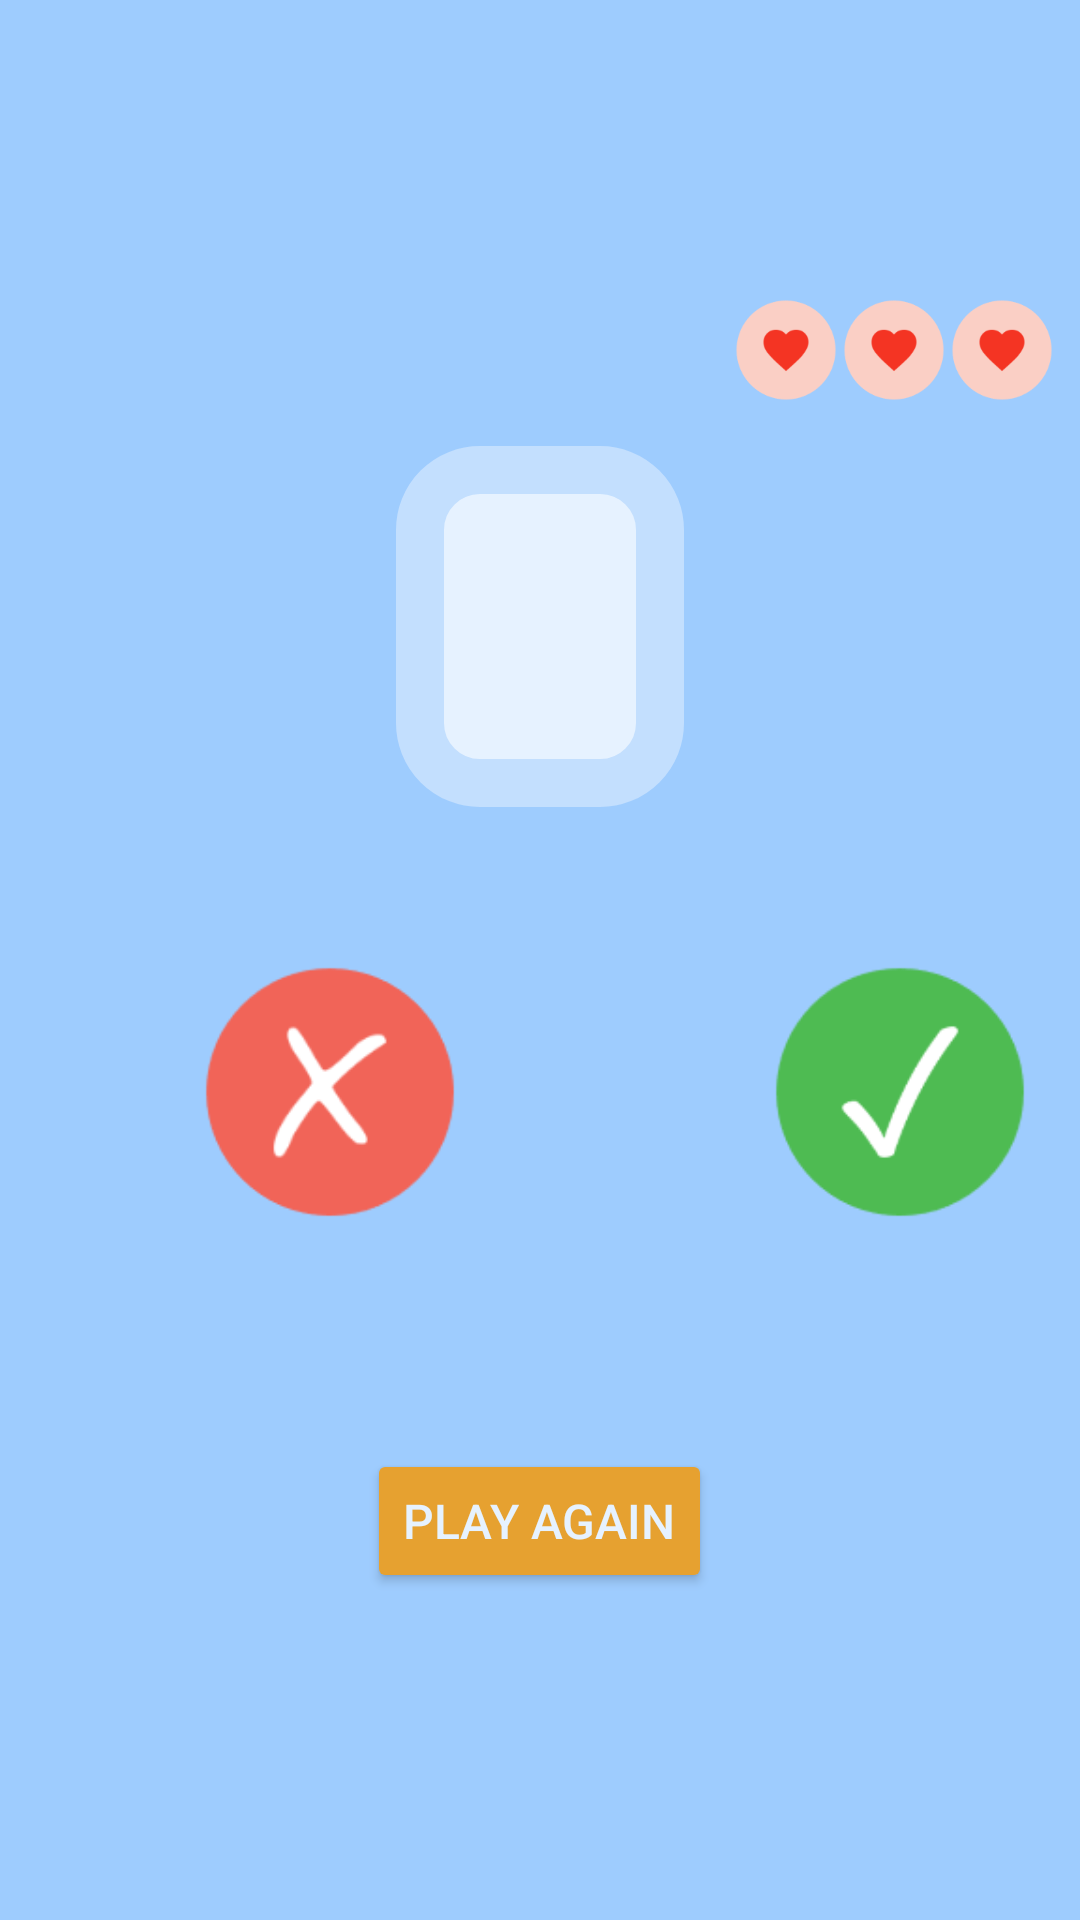

Icons on this 1080×1920 Android screen, each with its box as (x1, y1, x2, y2):
shortcut false: (206, 968, 454, 1216)
shortcut full heart: (736, 300, 836, 400), (844, 300, 944, 400), (952, 300, 1052, 400)
shortcut true: (776, 968, 1024, 1216)
